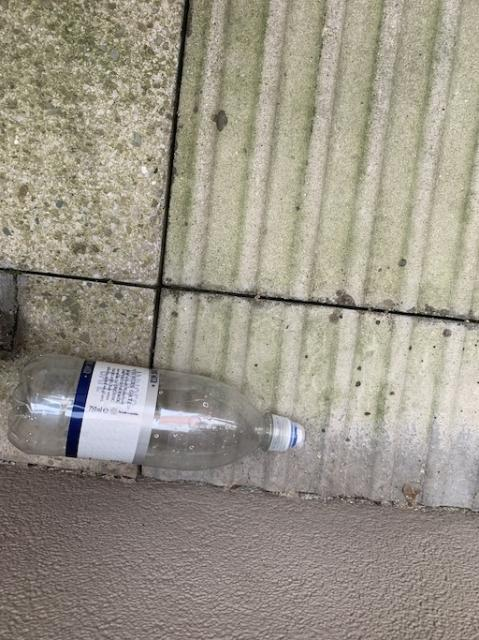plastic: (7, 354, 303, 468)
